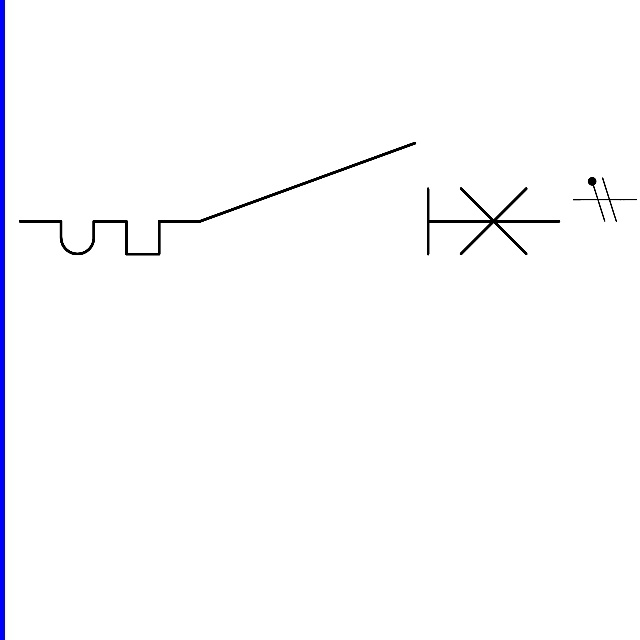interruptor_termomagnetico: (6, 129, 573, 268)
